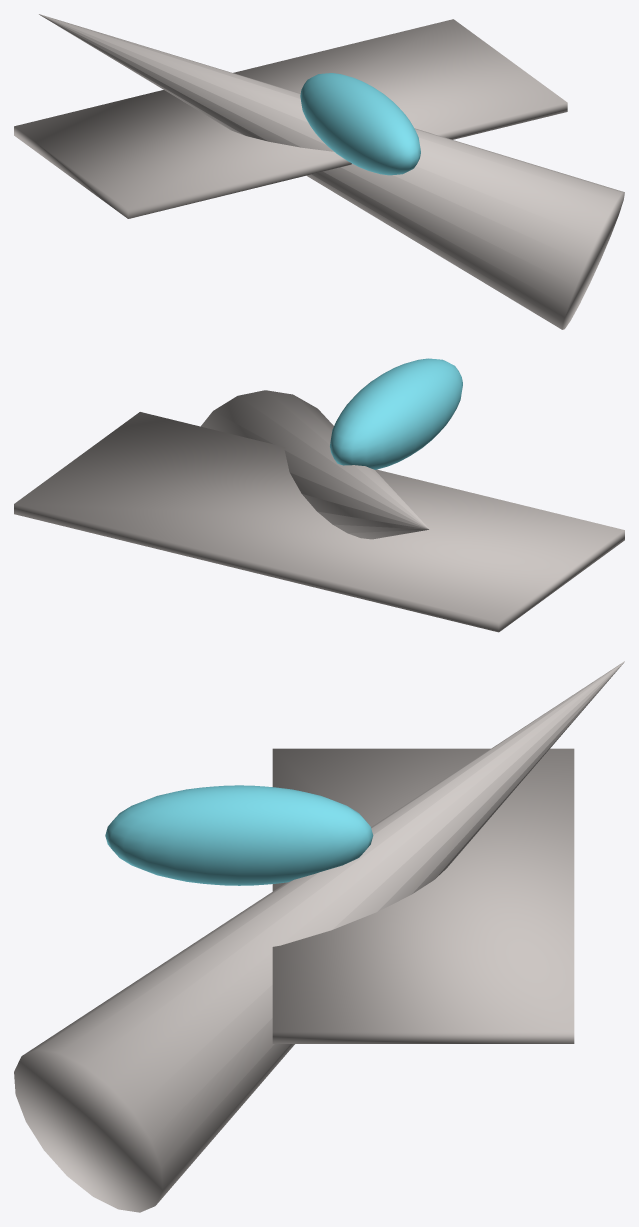
Rendered from fighter_jet.glb.
The picture shows the model from 3 angles, top to bottom: view 1: azimuth 30°, elevation 25°; view 2: azimuth 150°, elevation 25°; view 3: azimuth 270°, elevation 25°; orthographic projection. The views are drawn at different scales.
Parts seen in each view (by area): view 1: delta, fuse, canopy; view 2: delta, fuse, canopy; view 3: fuse, delta, canopy.
Part boxes in pixels (left/top/right/bottom): delta: left=14, top=19, right=567, bottom=218; fuse: left=39, top=14, right=624, bottom=329; canopy: left=300, top=73, right=420, bottom=175; delta: left=14, top=412, right=624, bottom=632; fuse: left=201, top=390, right=429, bottom=539; canopy: left=330, top=358, right=462, bottom=469; fuse: left=14, top=661, right=624, bottom=1212; delta: left=272, top=748, right=574, bottom=1043; canopy: left=105, top=785, right=373, bottom=885.
Size of the model in its own units: 2.02 by 1.08 by 1.82.
